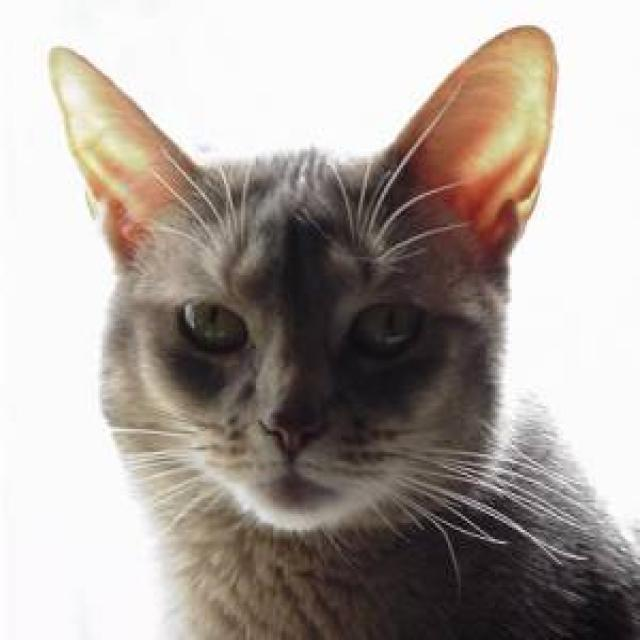Abyssinian: (29, 22, 569, 563)
